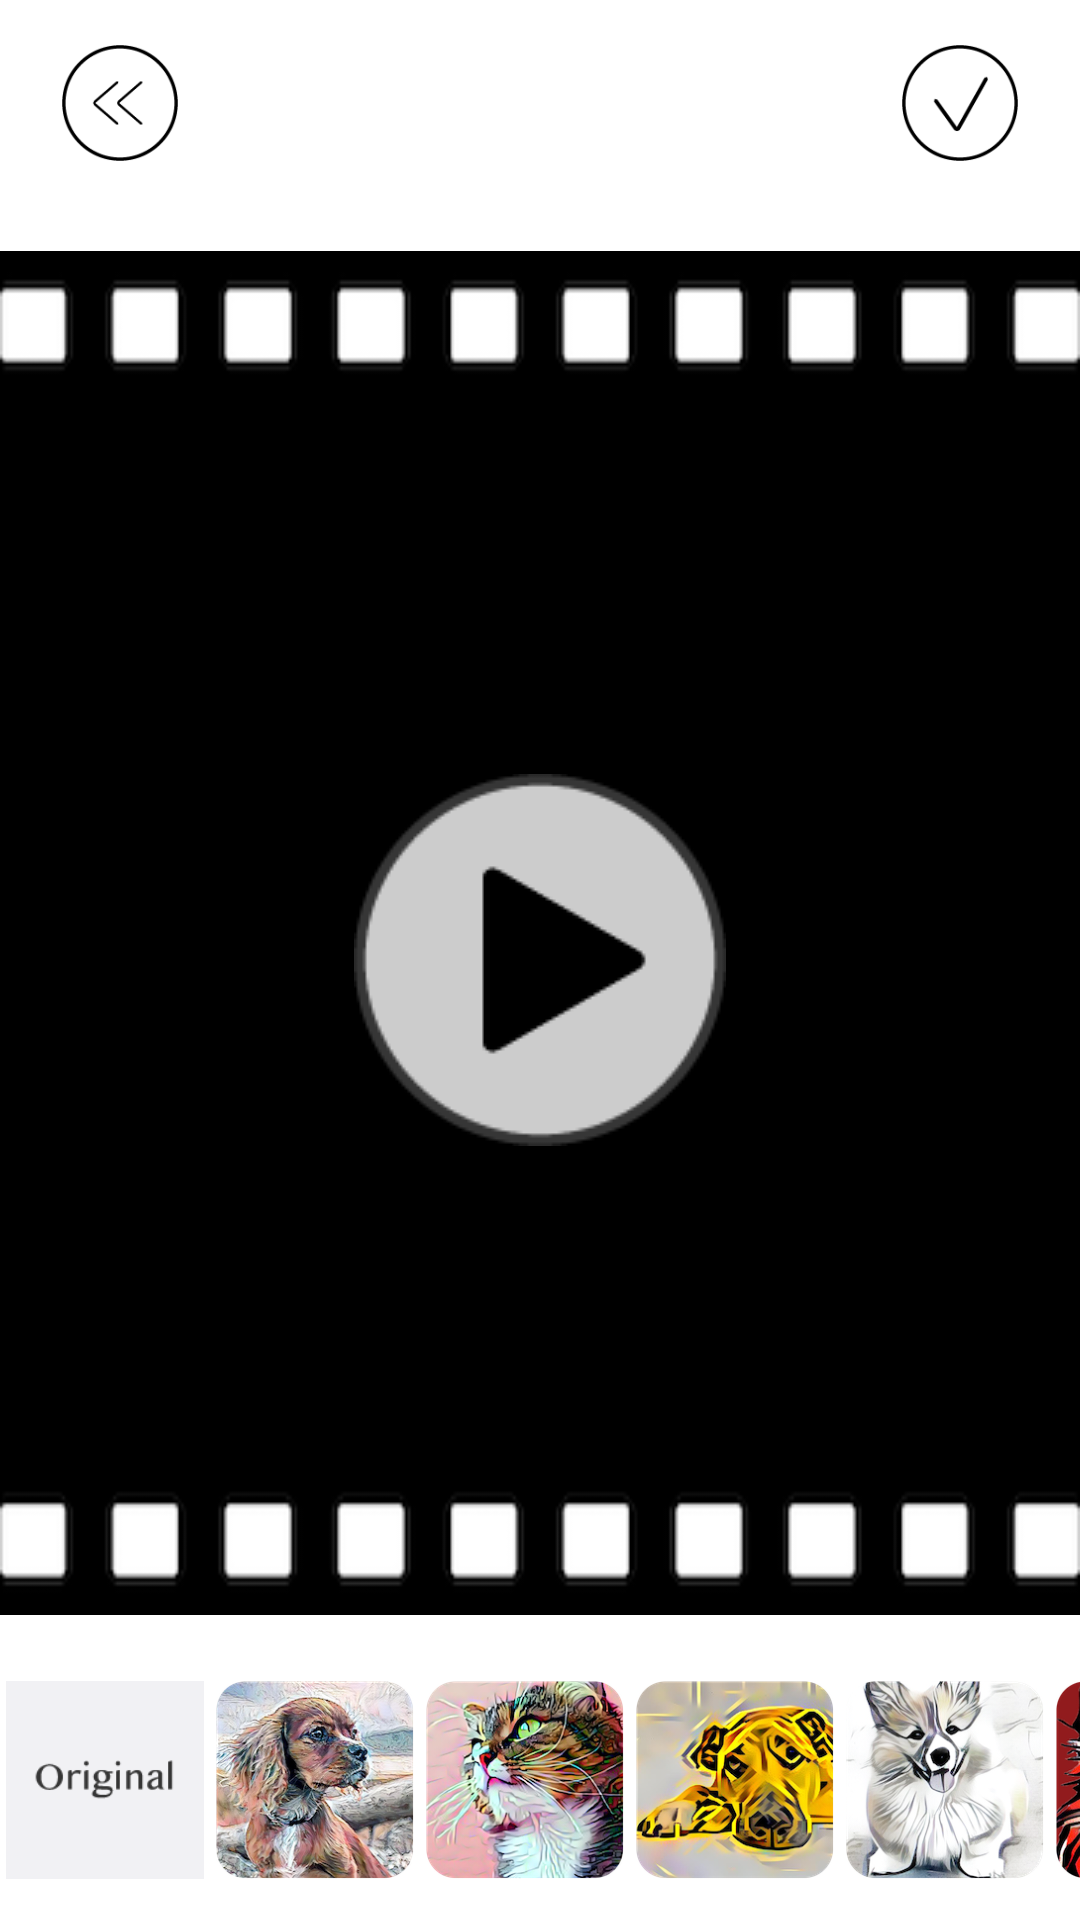

Where icons sit on this 1080w x 1920h app screen, as (x1, y1, x2, y2):
back: (62, 45, 178, 161)
check: (902, 45, 1018, 161)
